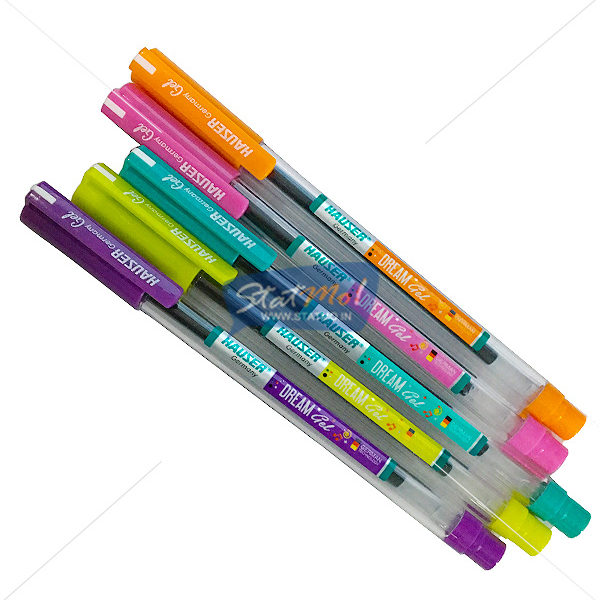Nonrec_Other: (14, 41, 595, 568)
